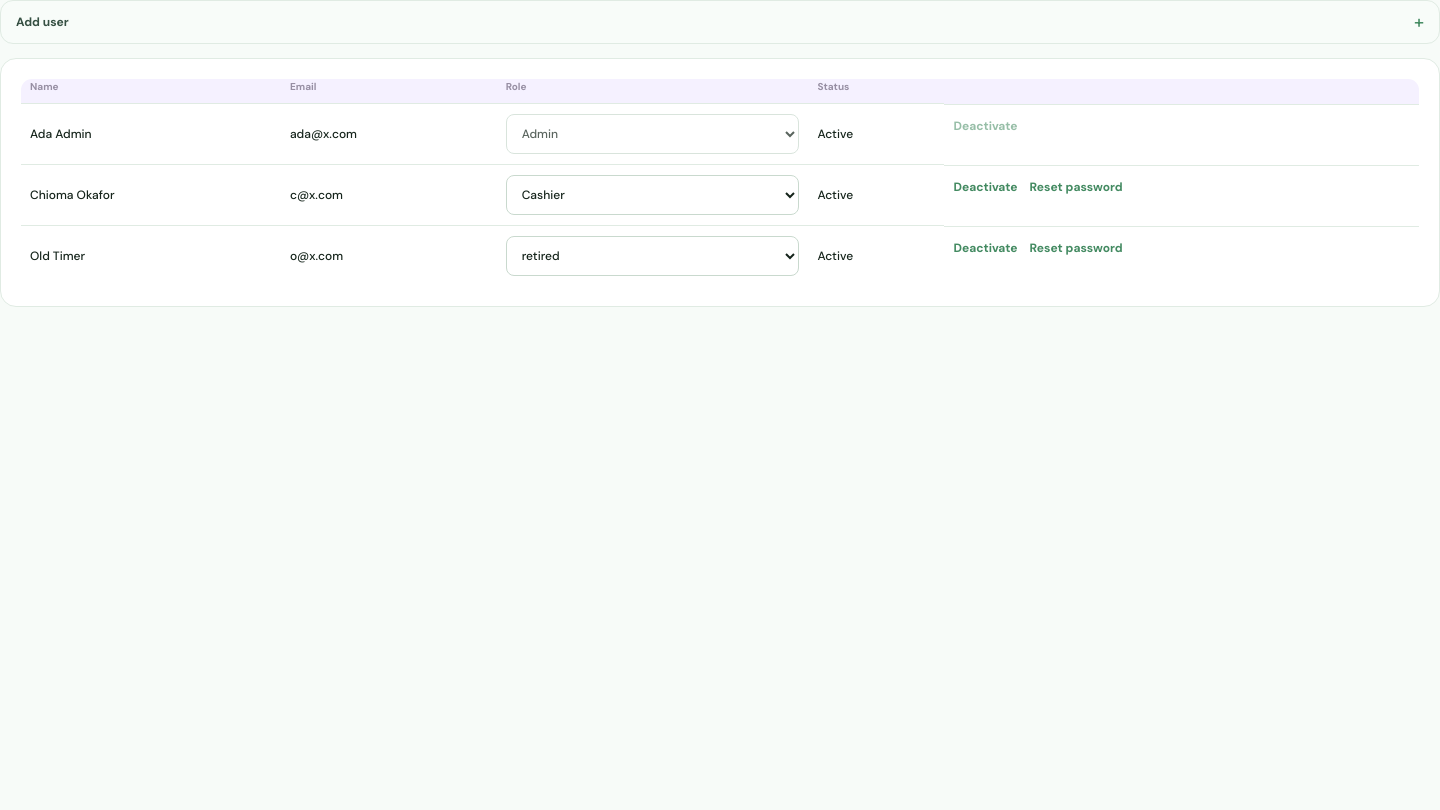
Scenario: an admin can reset another user's password, but not their own here
The width and height of the screenshot is (1440, 810).
Click the button with aria-label "Reset password for Chioma Okafor".
click(1076, 186)  # box [1030,176,1123,198]
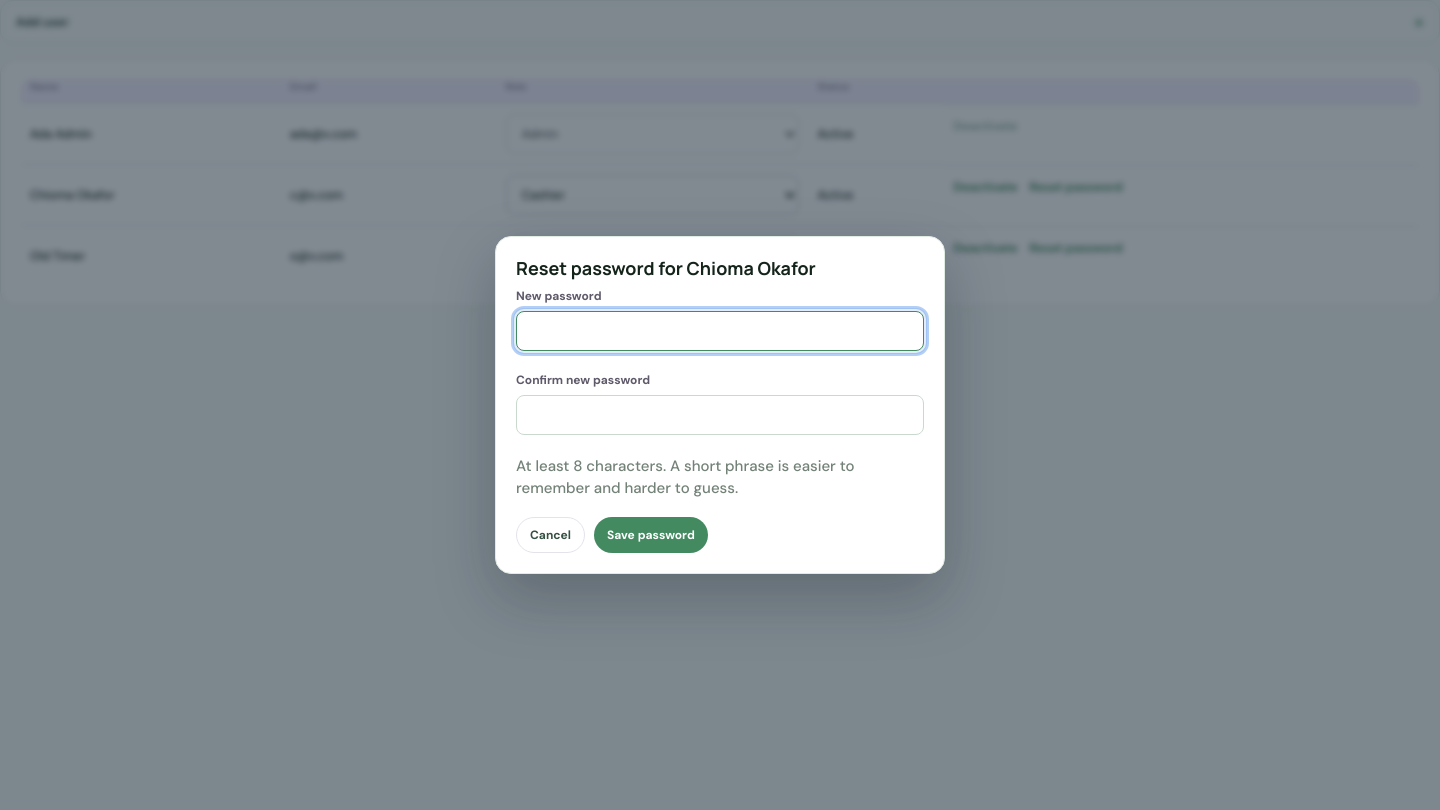
Type "temporary-pass" into the password field labelled "New password".
click(720, 331); type("temporary-pass")  # box [516,311,924,351]
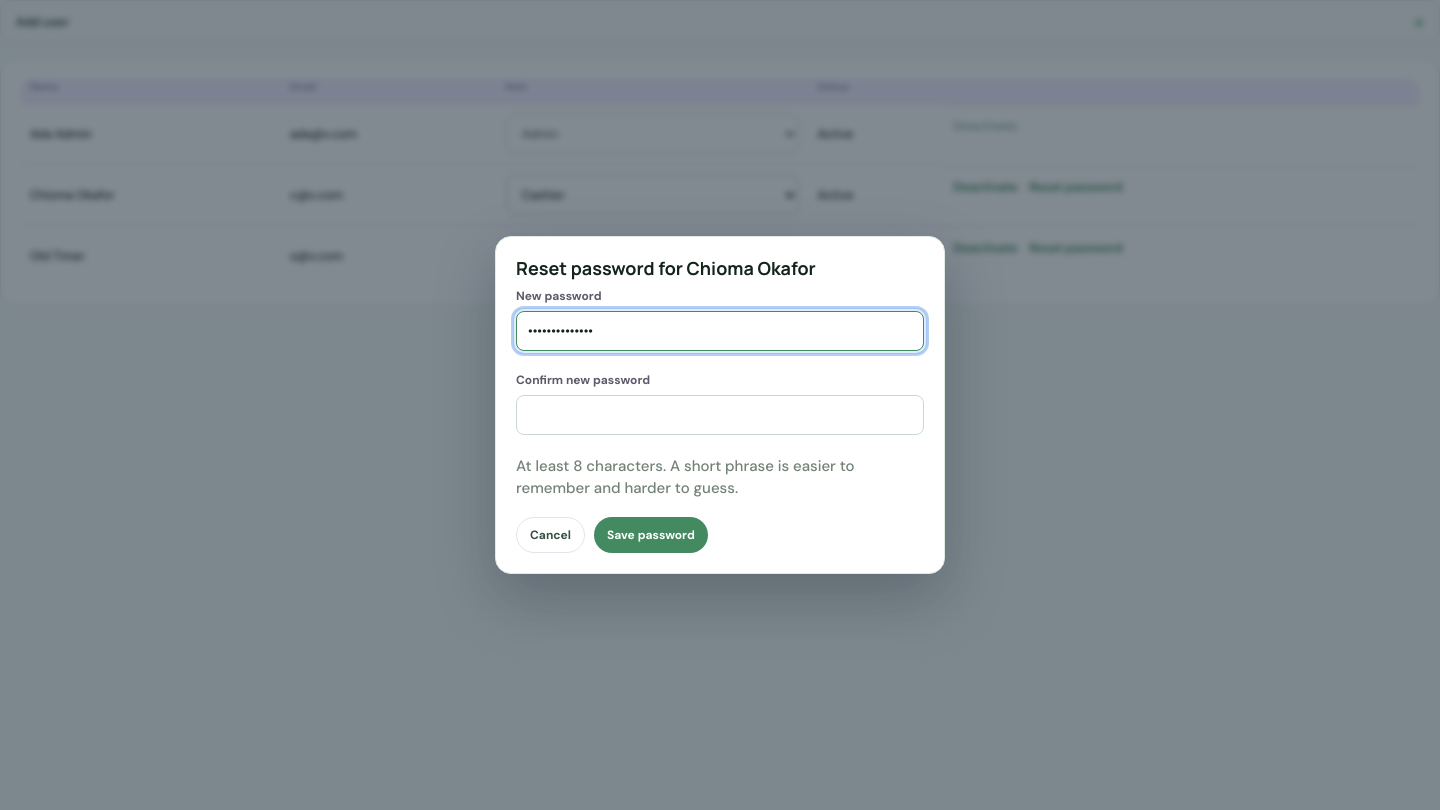
Type "temporary-pass" into the password field labelled "Confirm new password".
click(720, 415); type("temporary-pass")  # box [516,395,924,435]
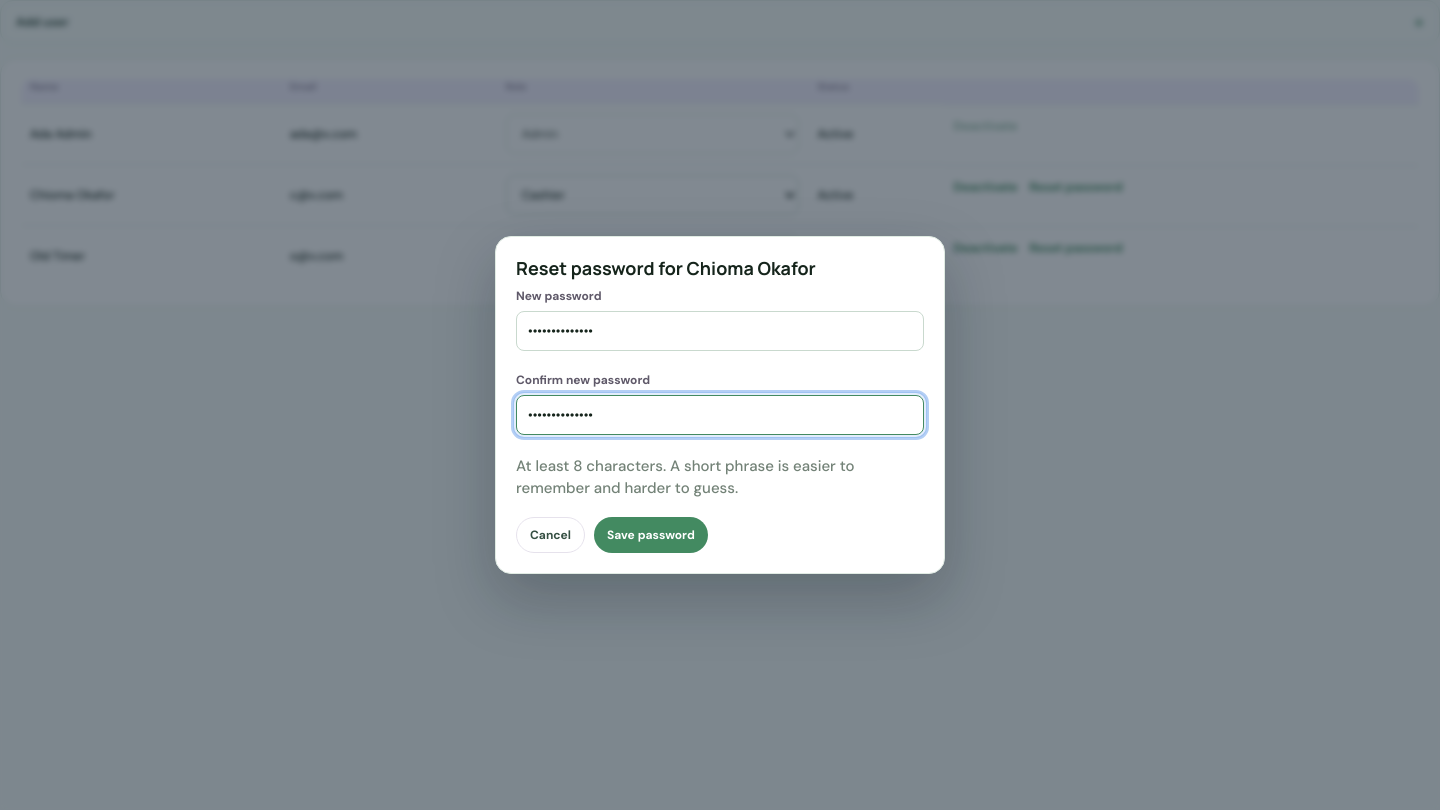
Click the button "Save password".
click(651, 535)  # box [594,517,708,553]
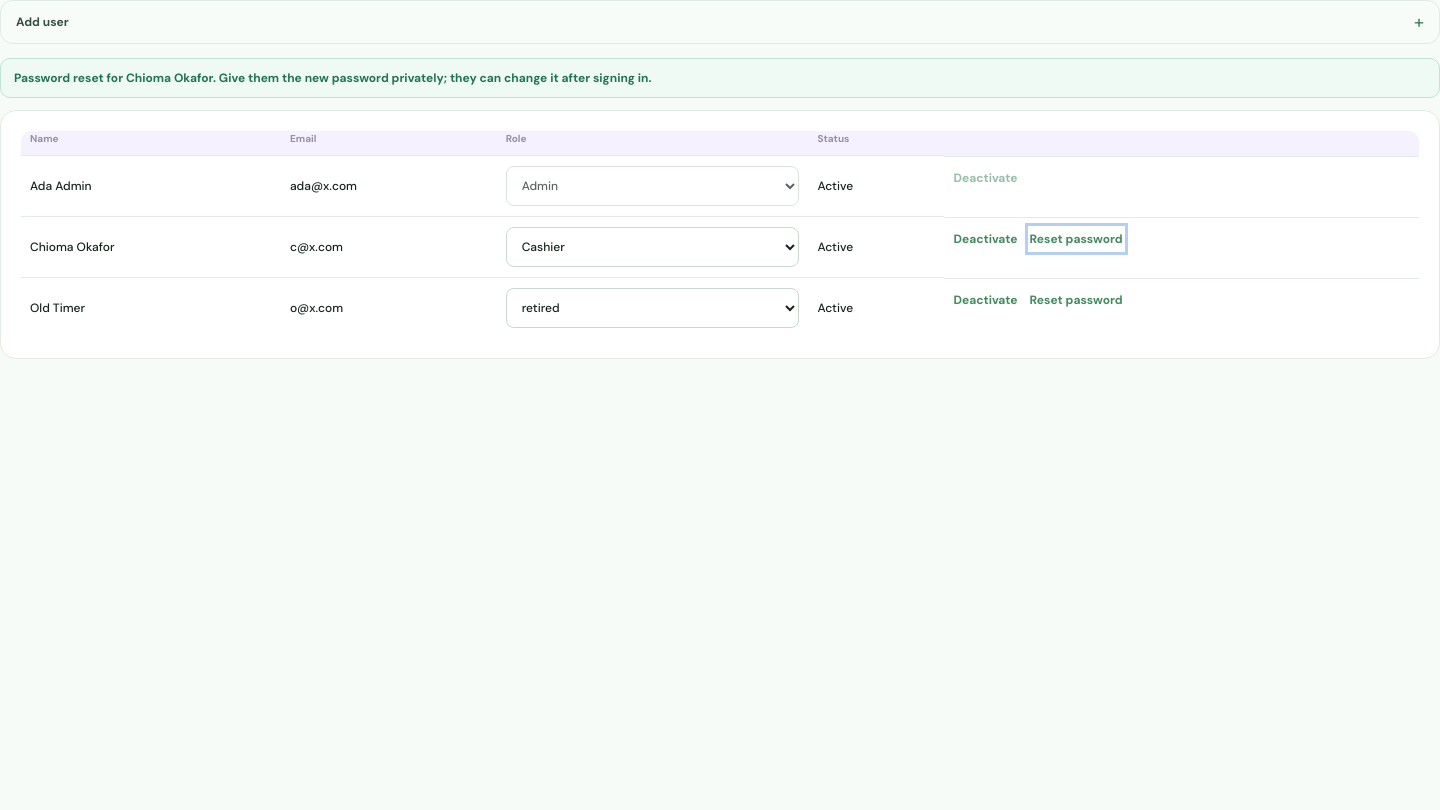
Now the message shows "Password reset for Chioma Okafor", box [14,70,652,86]
